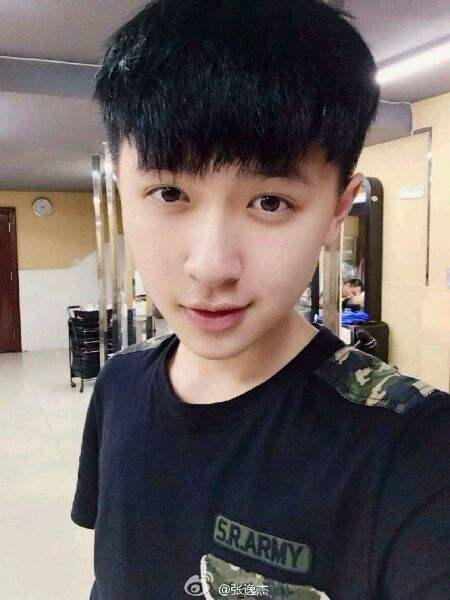person: (107, 1, 413, 530)
